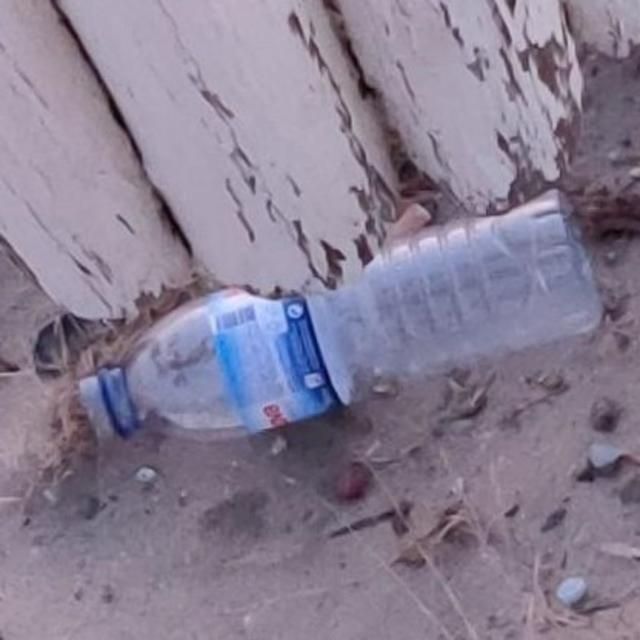chai: (79, 190, 601, 438)
